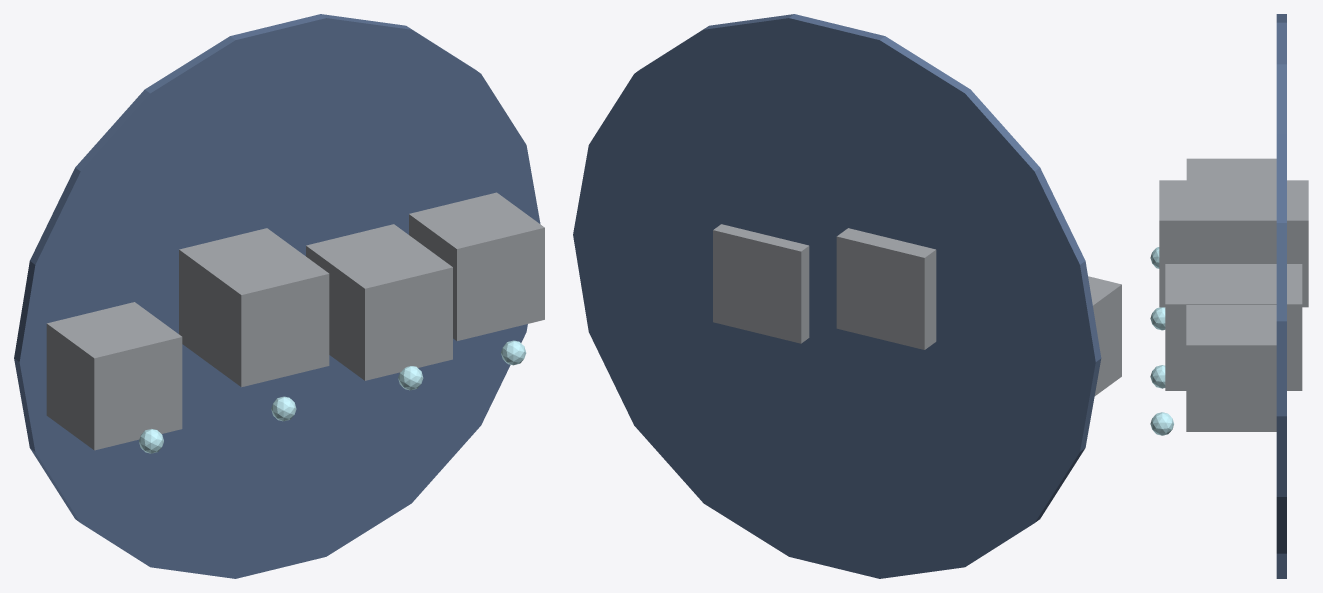
The model's file is 03_ambient_object_cluster.glb.
3 views of the same model, side by side, from view 1: azimuth 30°, elevation 25°; view 2: azimuth 150°, elevation 25°; view 3: azimuth 270°, elevation 25° (orthographic). The views are drawn at different scales.
Parts seen in each view (by area): view 1: scatter_base, tech_crate_1, tech_crate_2, tech_crate_0, tech_crate_3; view 2: scatter_base, tech_crate_1, tech_crate_2, tech_crate_0; view 3: tech_crate_1, tech_crate_3, tech_crate_2, scatter_base, tech_crate_0, status_light_3, status_light_2, status_light_1.
Boxes of the visible parts, <box> form: scatter_base: <box>14,14,540,578</box>; tech_crate_1: <box>179,228,329,387</box>; tech_crate_2: <box>306,224,452,380</box>; tech_crate_0: <box>46,302,182,450</box>; tech_crate_3: <box>409,192,544,340</box>; scatter_base: <box>573,14,1101,578</box>; tech_crate_1: <box>836,228,936,349</box>; tech_crate_2: <box>713,224,809,343</box>; tech_crate_0: <box>1088,276,1121,395</box>; tech_crate_1: <box>1159,180,1308,307</box>; tech_crate_3: <box>1186,305,1276,431</box>; tech_crate_2: <box>1165,264,1302,390</box>; scatter_base: <box>1276,14,1286,578</box>; tech_crate_0: <box>1186,158,1276,180</box>; status_light_3: <box>1150,412,1173,435</box>; status_light_2: <box>1150,365,1165,388</box>; status_light_1: <box>1150,307,1165,330</box>.
Bounding box in the file's own units: 1.9 × 1.87 × 0.5301.
